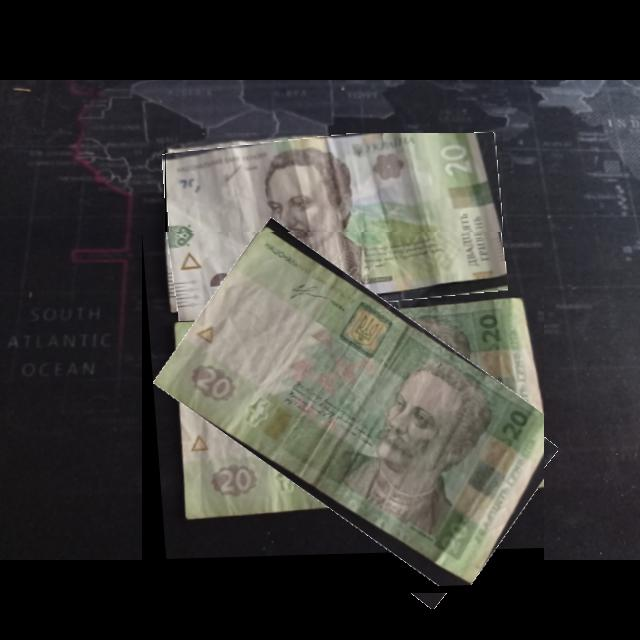20uah: (152, 232, 545, 588), (165, 133, 504, 323)
